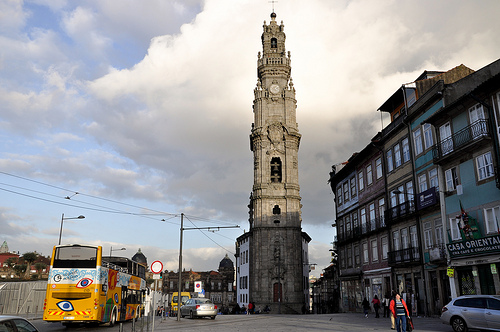clerigos: (245, 0, 308, 303)
